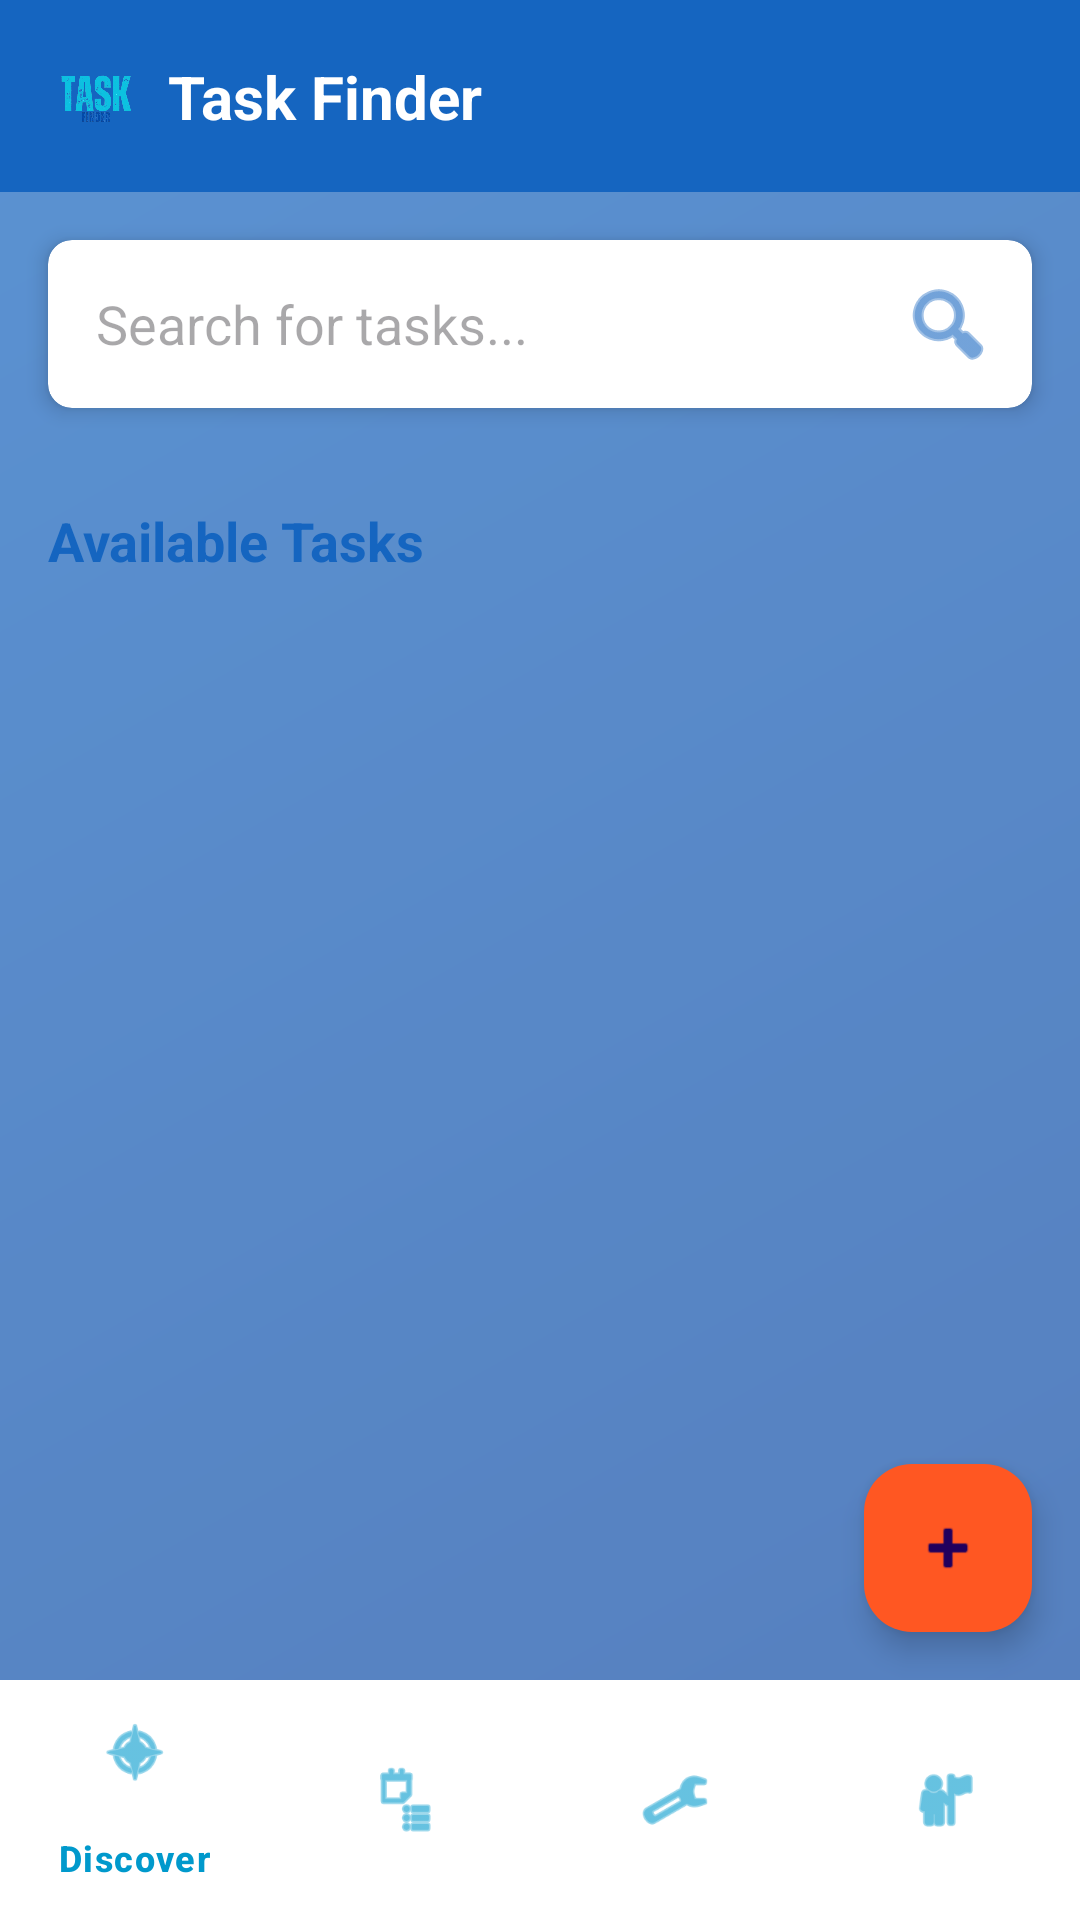

Locate icon controls on the screen. Image size 1080 x 1920, boxes as (x1, y1, x2, y2).
Add a new task: (864, 1464, 1032, 1632)
